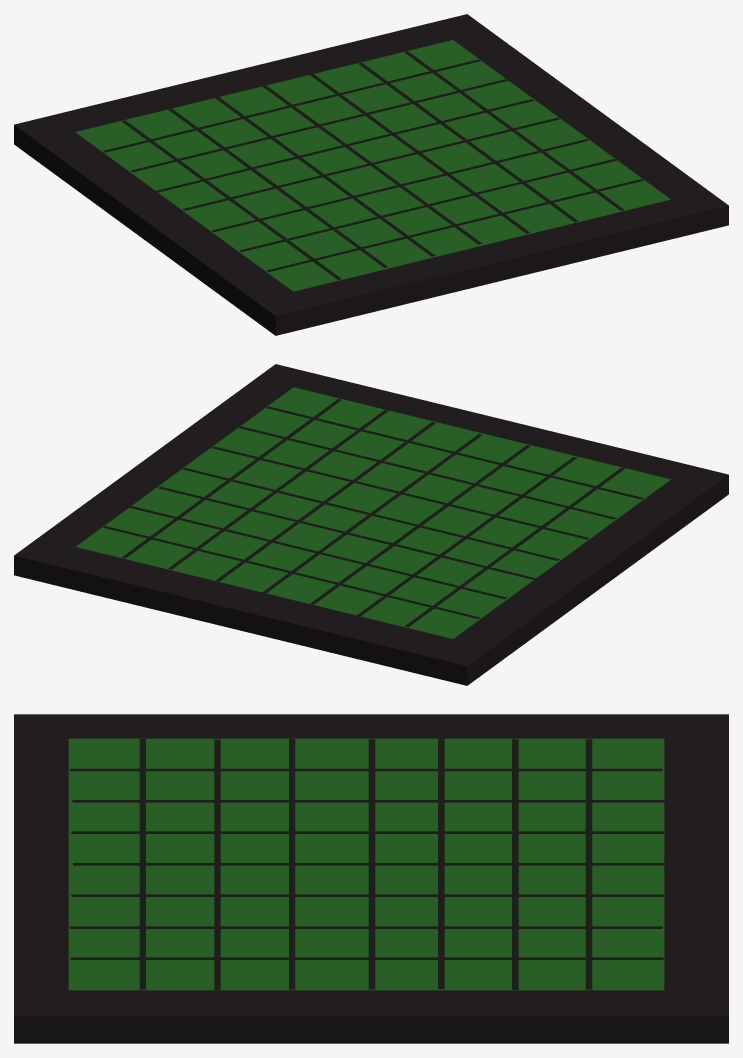
The model's file is board.glb.
The picture shows the model from 3 angles, top to bottom: view 1: azimuth 30°, elevation 25°; view 2: azimuth 150°, elevation 25°; view 3: azimuth 270°, elevation 25°; orthographic projection. The views are drawn at different scales.
Parts seen in each view (by area): view 1: Plane, Cube, Plane.002, Plane.008, Plane.004, Plane.005, Plane.007, Plane.001, Plane.006, Plane.011, Plane.003, Plane.009 (+4 smaller); view 2: Plane, Cube, Plane.007, Plane.006, Plane.001, Plane.002, Plane.008, Plane.004, Plane.005, Plane.009, Plane.010, Plane.011 (+4 smaller); view 3: Plane, Cube, Plane.013, Plane.005, Plane.001, Plane.002, Plane.006, Plane.008, Plane.004, Plane.009, Plane.007, Plane.010 (+4 smaller).
Boxes of the visible parts, bbox=[...] form: Plane: bbox=[75, 40, 670, 291]; Cube: bbox=[14, 14, 728, 335]; Plane.002: bbox=[130, 79, 507, 172]; Plane.008: bbox=[239, 159, 616, 252]; Plane.004: bbox=[156, 99, 533, 192]; Plane.005: bbox=[182, 117, 559, 210]; Plane.007: bbox=[266, 179, 643, 272]; Plane.001: bbox=[103, 59, 480, 152]; Plane.006: bbox=[211, 139, 588, 231]; Plane.011: bbox=[358, 62, 578, 222]; Plane.003: bbox=[215, 97, 435, 256]; Plane.009: bbox=[262, 85, 482, 244]; Plane: bbox=[76, 387, 670, 638]; Cube: bbox=[14, 364, 728, 685]; Plane.007: bbox=[266, 406, 643, 499]; Plane.006: bbox=[212, 446, 589, 539]; Plane.001: bbox=[103, 526, 480, 619]; Plane.002: bbox=[129, 506, 506, 599]; Plane.008: bbox=[239, 426, 615, 519]; Plane.004: bbox=[158, 486, 535, 579]; Plane.005: bbox=[182, 467, 559, 560]; Plane.009: bbox=[262, 434, 482, 593]; Plane.010: bbox=[215, 422, 435, 581]; Plane.011: bbox=[168, 410, 388, 569]; Plane: bbox=[68, 738, 664, 990]; Cube: bbox=[14, 714, 728, 1043]; Plane.013: bbox=[70, 768, 662, 771]; Plane.005: bbox=[368, 739, 375, 989]; Plane.001: bbox=[585, 739, 592, 989]; Plane.002: bbox=[512, 739, 518, 989]; Plane.006: bbox=[289, 739, 295, 989]; Plane.008: bbox=[214, 739, 220, 989]; Plane.004: bbox=[438, 738, 444, 988]; Plane.009: bbox=[73, 863, 665, 865]; Plane.007: bbox=[139, 739, 145, 989]; Plane.010: bbox=[71, 894, 663, 896].
Size of the model in its own units: 24 by 1.04 by 24.
